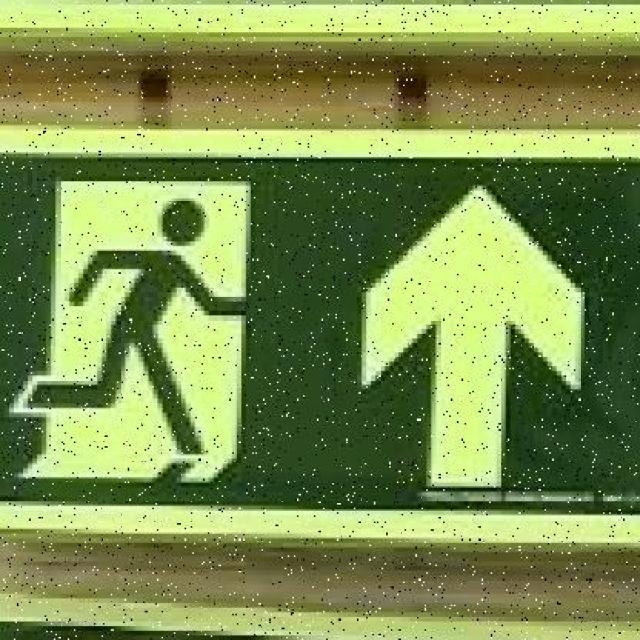exit_sign: (0, 110, 635, 542)
